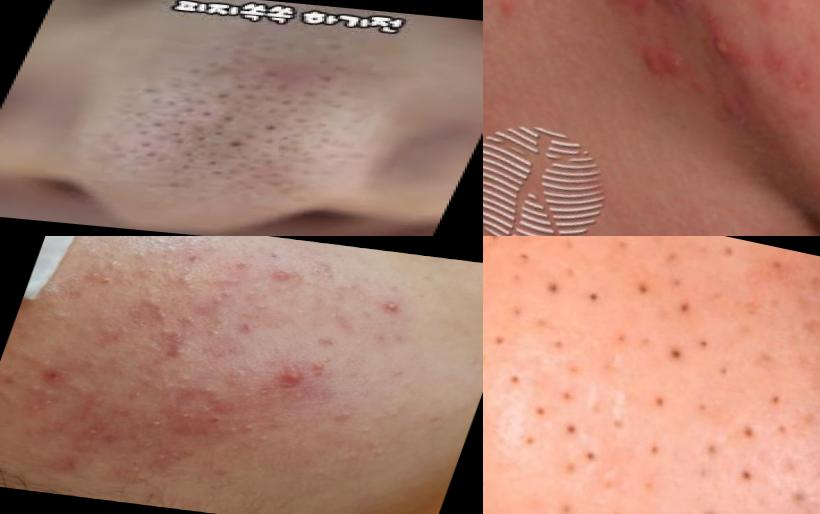blackhead: (484, 237, 590, 316), (513, 420, 631, 488), (519, 371, 603, 454), (731, 385, 806, 456), (197, 113, 288, 154), (127, 95, 222, 134), (484, 294, 541, 359), (113, 127, 202, 167), (198, 67, 289, 106), (259, 122, 339, 159), (570, 269, 620, 322), (720, 453, 774, 500), (171, 147, 246, 178), (664, 285, 710, 332), (620, 268, 667, 309), (654, 337, 698, 375), (663, 493, 734, 514), (642, 382, 682, 419), (636, 435, 675, 469), (595, 490, 647, 514), (693, 432, 726, 467)
papular: (621, 30, 697, 102), (259, 364, 323, 396), (155, 344, 211, 366)
purulent: (700, 34, 746, 70), (372, 298, 414, 326)
whitehead: (78, 246, 157, 293), (122, 464, 170, 495), (166, 268, 212, 297), (357, 440, 401, 464), (22, 382, 54, 411), (141, 304, 177, 327), (264, 265, 303, 285), (203, 318, 233, 343), (308, 259, 340, 281), (128, 243, 160, 264), (137, 415, 173, 433), (154, 381, 197, 395), (134, 437, 167, 455), (77, 360, 108, 379), (125, 425, 151, 447), (43, 310, 71, 328), (207, 289, 234, 307), (329, 407, 356, 425), (194, 384, 226, 399), (176, 314, 201, 331), (78, 427, 105, 442), (221, 440, 249, 454), (125, 389, 151, 404), (253, 300, 274, 315), (254, 432, 272, 448), (196, 402, 217, 415), (81, 326, 97, 342), (242, 423, 260, 435)
